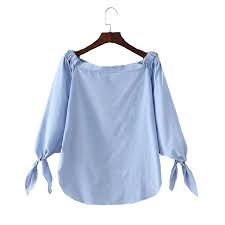C_blouse: (30, 43, 198, 201)
